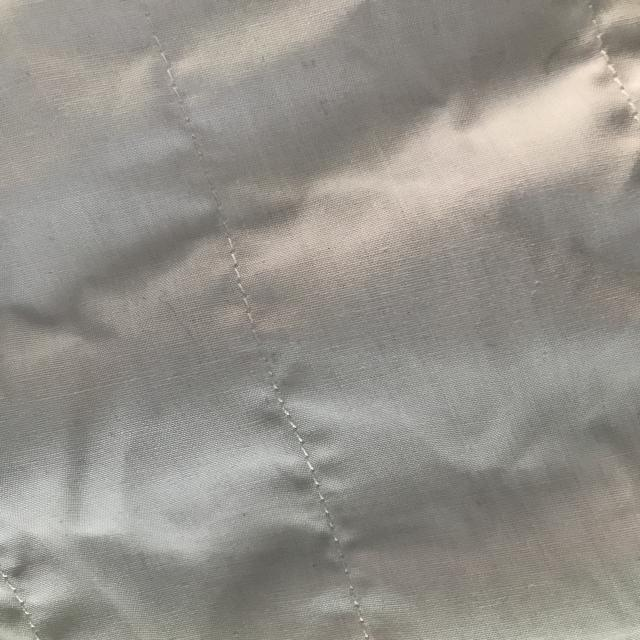good: (208, 250, 275, 318)
